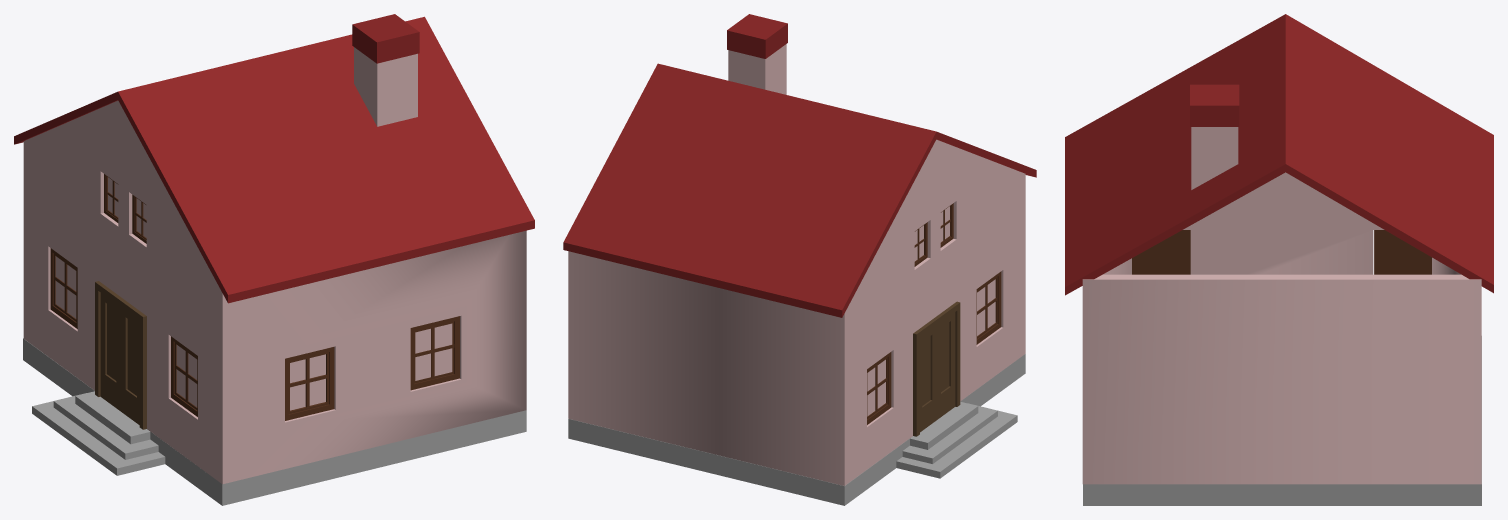
The model's file is Home.fbx.
The picture shows the model from 3 angles, left to right: view 1: azimuth 30°, elevation 25°; view 2: azimuth 150°, elevation 25°; view 3: azimuth 270°, elevation 25°; orthographic projection. The views are drawn at different scales.
Visible parts, largest first — view 1: dhome:Wall01, dhome:Box02, dhome:Box01, dhome:BiFoldDoor01, dhome:Box04, dhome:Box11, dhome:Box23, dhome:Box10, dhome:Plane06, dhome:Box09, dhome:Plane01, dhome:AwningWindow03 (+5 smaller); view 2: dhome:Wall01, dhome:Box02, dhome:Box01, dhome:BiFoldDoor01, dhome:Box11, dhome:Box04, dhome:Box23, dhome:Box10, dhome:Box09, dhome:Plane04, dhome:Plane05, dhome:AwningWindow01 (+1 smaller); view 3: dhome:Wall01, dhome:Box02, dhome:Box01, dhome:Box04, dhome:Box23, dhome:AwningWindow02, dhome:AwningWindow01.
Part boxes in pixels (x1,y1,x2,y2): dhome:Wall01: (23, 100, 526, 484); dhome:Box02: (14, 16, 534, 303); dhome:Box01: (23, 338, 526, 505); dhome:BiFoldDoor01: (95, 281, 146, 429); dhome:Box04: (354, 47, 417, 126); dhome:Box11: (32, 401, 165, 475); dhome:Box23: (352, 14, 419, 63); dhome:Box10: (53, 393, 158, 459); dhome:Plane06: (415, 323, 452, 380); dhome:Box09: (75, 391, 150, 444); dhome:Plane01: (290, 354, 325, 410); dhome:AwningWindow03: (285, 347, 334, 420); dhome:Wall01: (568, 139, 1025, 485); dhome:Box02: (563, 63, 1036, 317); dhome:Box01: (568, 354, 1025, 505); dhome:BiFoldDoor01: (913, 301, 960, 436); dhome:Box11: (896, 410, 1017, 478); dhome:Box04: (728, 44, 786, 94); dhome:Box23: (727, 14, 787, 58); dhome:Box10: (902, 403, 997, 463); dhome:Box09: (910, 402, 978, 449); dhome:Plane04: (867, 359, 885, 416); dhome:Plane05: (977, 279, 995, 335); dhome:AwningWindow01: (976, 271, 1001, 344); dhome:Wall01: (1082, 172, 1481, 484); dhome:Box02: (1065, 14, 1493, 295); dhome:Box01: (1083, 336, 1481, 505); dhome:Box04: (1191, 127, 1238, 189); dhome:Box23: (1190, 84, 1239, 126); dhome:AwningWindow02: (1374, 230, 1431, 274); dhome:AwningWindow01: (1132, 230, 1190, 274).
Size of the model in its own units: 14.54 by 14.74 by 15.3.
